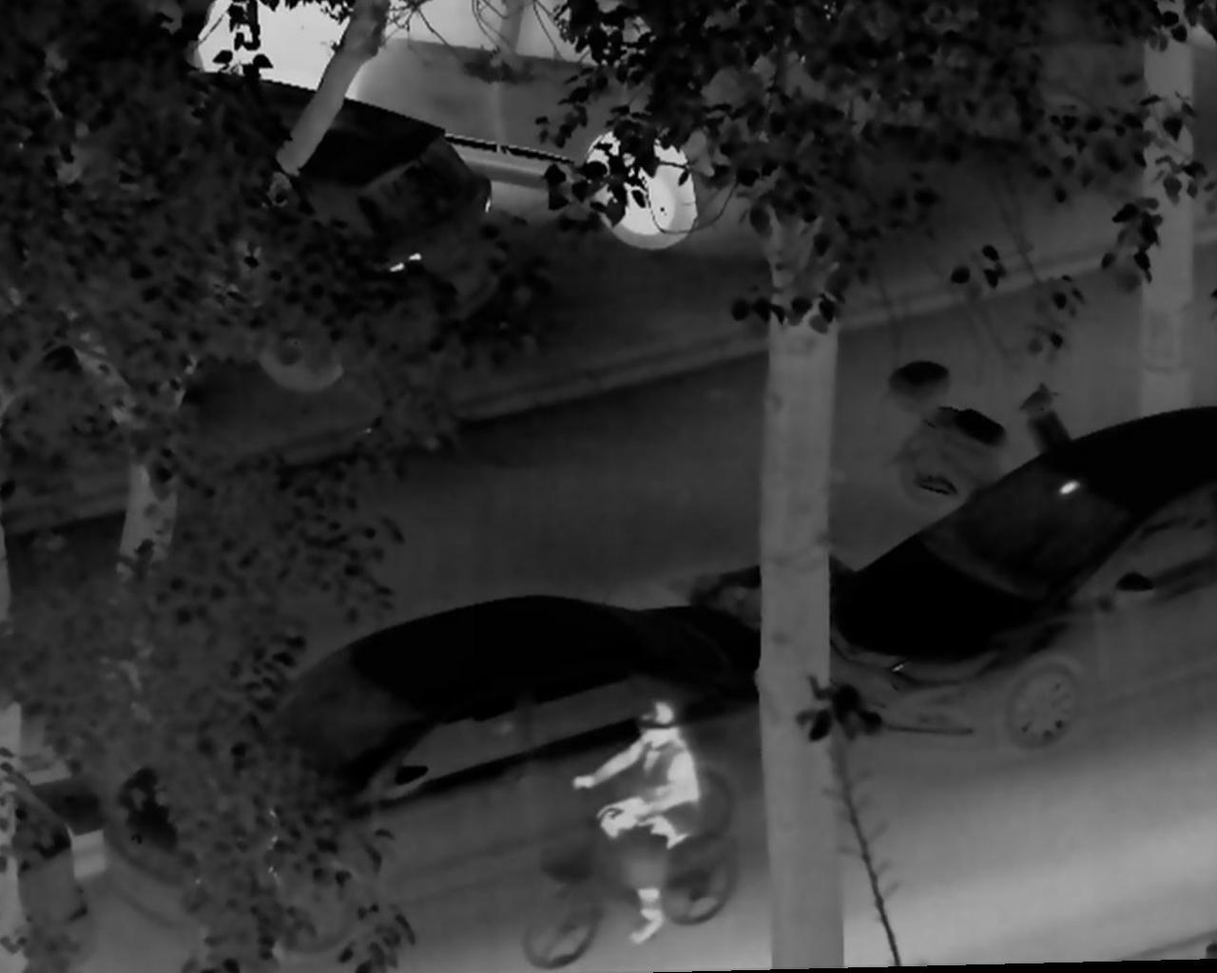person: (570, 687, 700, 951)
